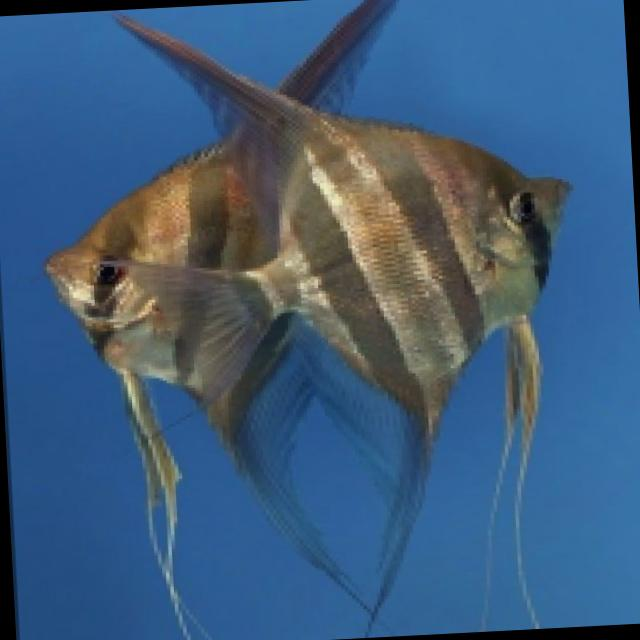AngelFish: (130, 0, 592, 629), (38, 0, 434, 625)
